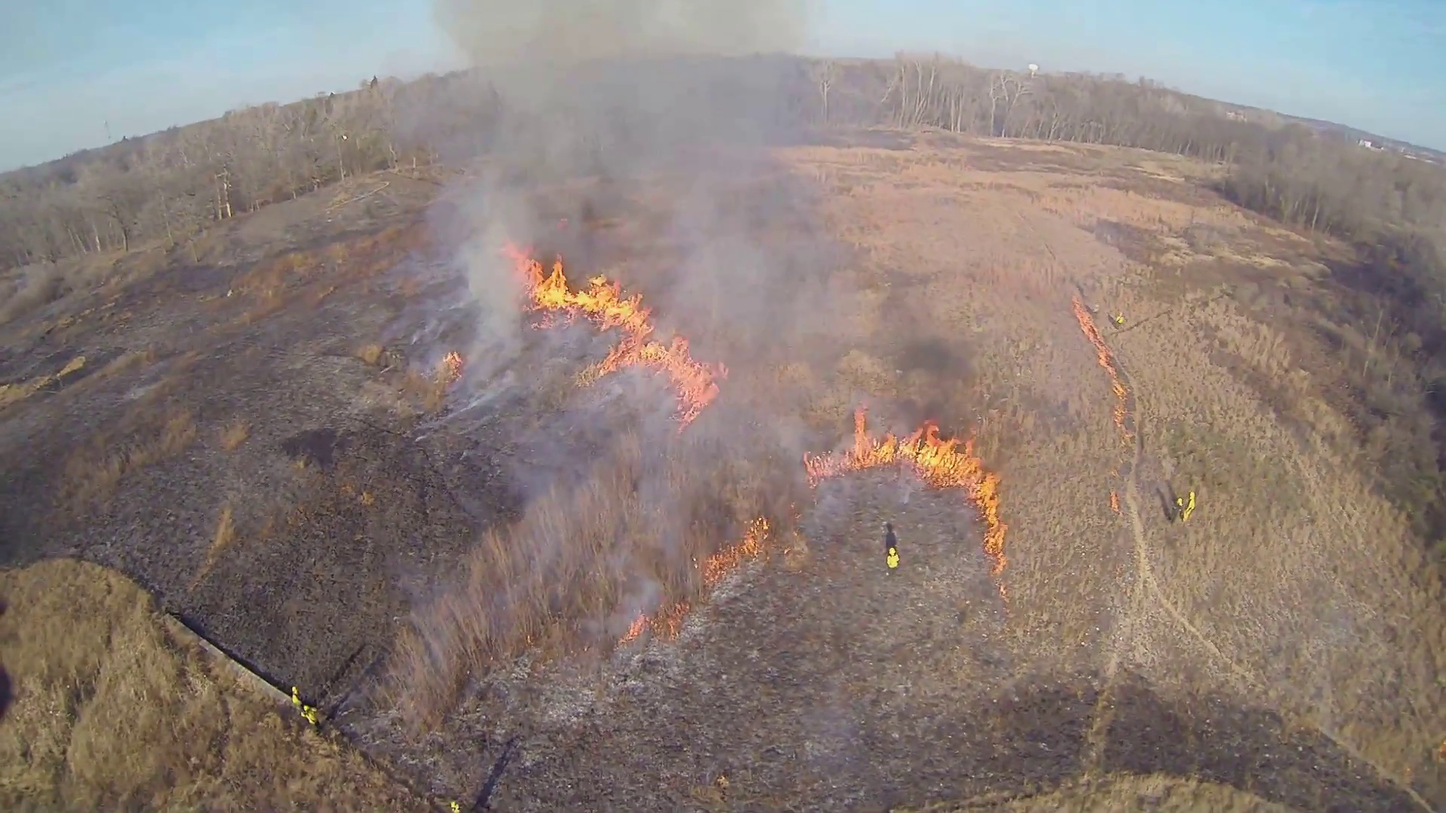forest_fire: (507, 247, 725, 430), (804, 406, 1006, 576), (1072, 301, 1127, 429), (700, 518, 770, 584), (622, 601, 688, 641)
